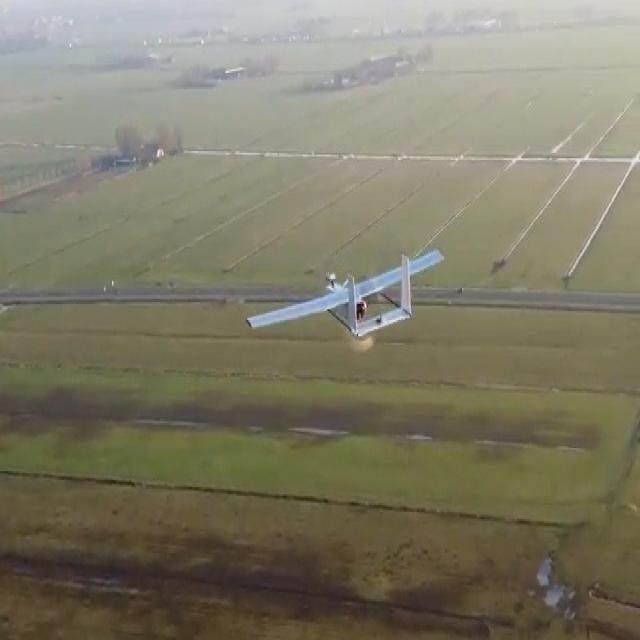iha: (237, 229, 448, 363)
